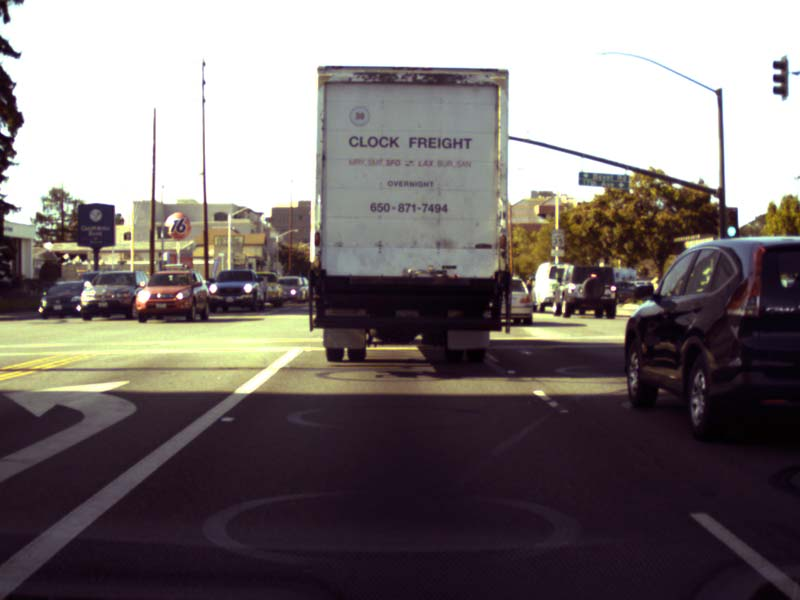Green: (725, 208, 738, 235)
